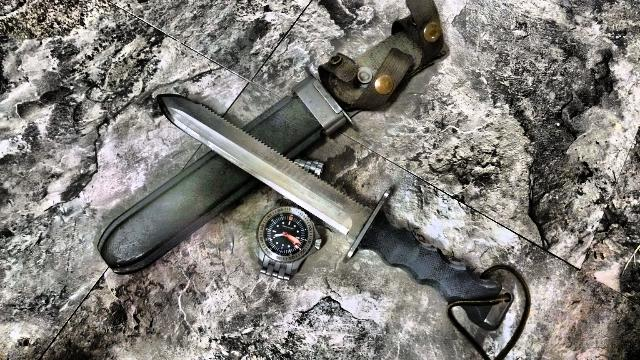knife: (146, 86, 360, 224)
